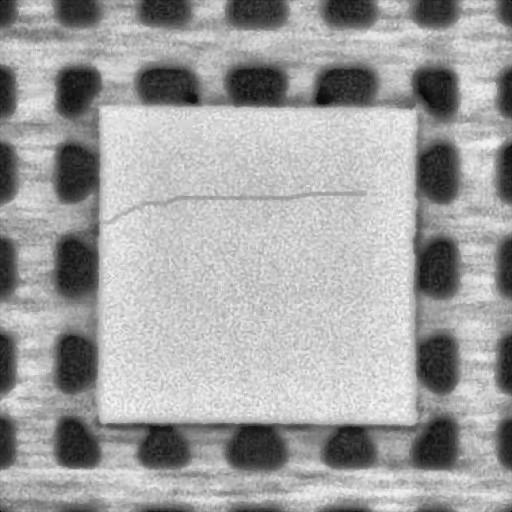DIE_CRACK: (99, 188, 366, 226)
